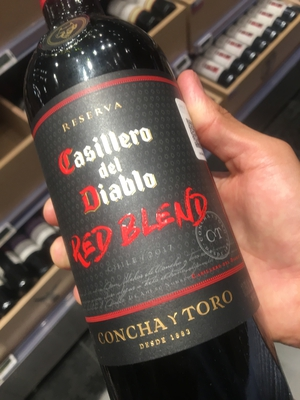casillero del diablo red blend: (27, 3, 280, 397)
